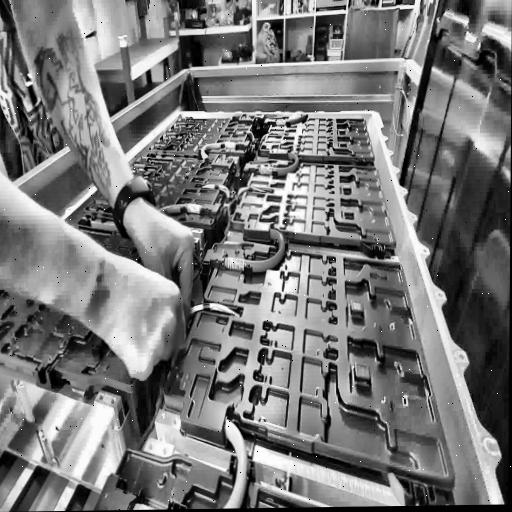high_volt_cable: (204, 216, 288, 275), (209, 394, 250, 509), (92, 474, 172, 511), (243, 147, 303, 178), (156, 196, 222, 218), (199, 139, 250, 160)
